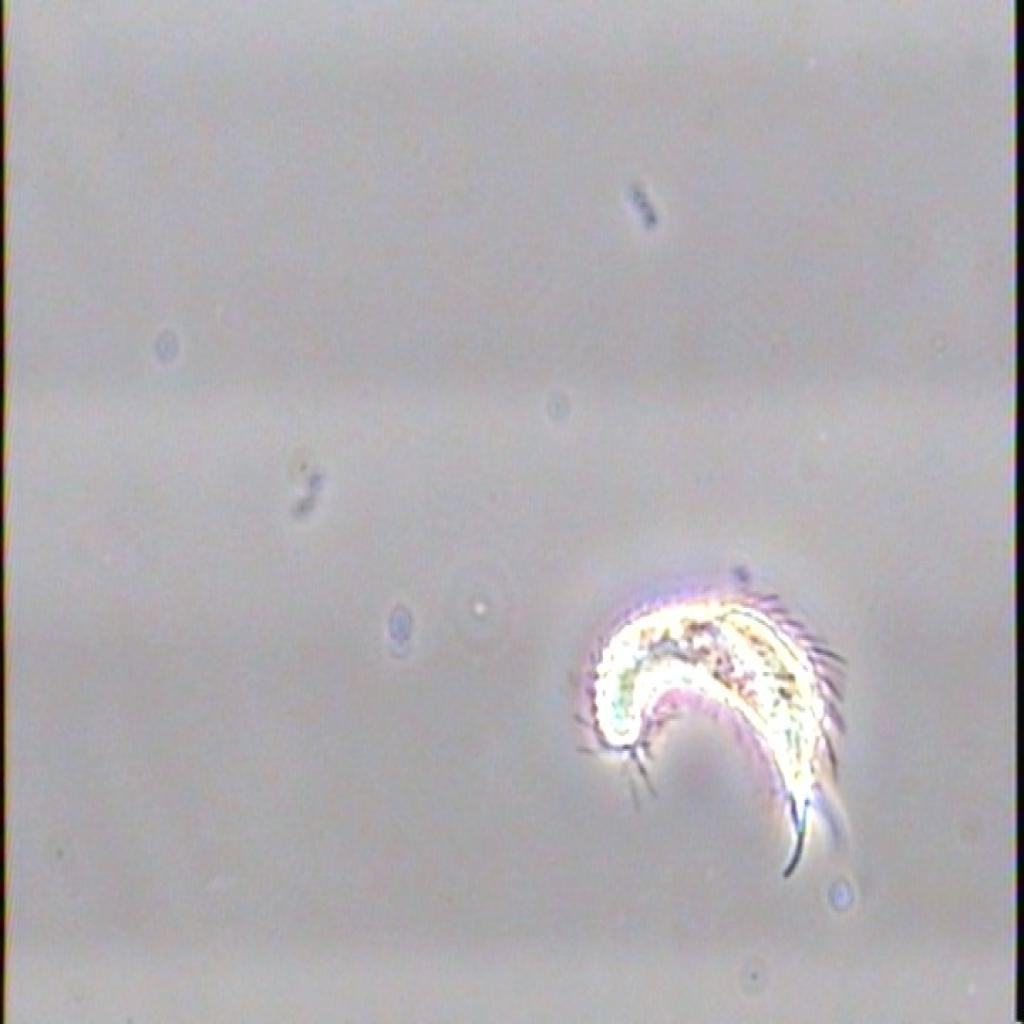Chaetonotus: (541, 531, 864, 900)
